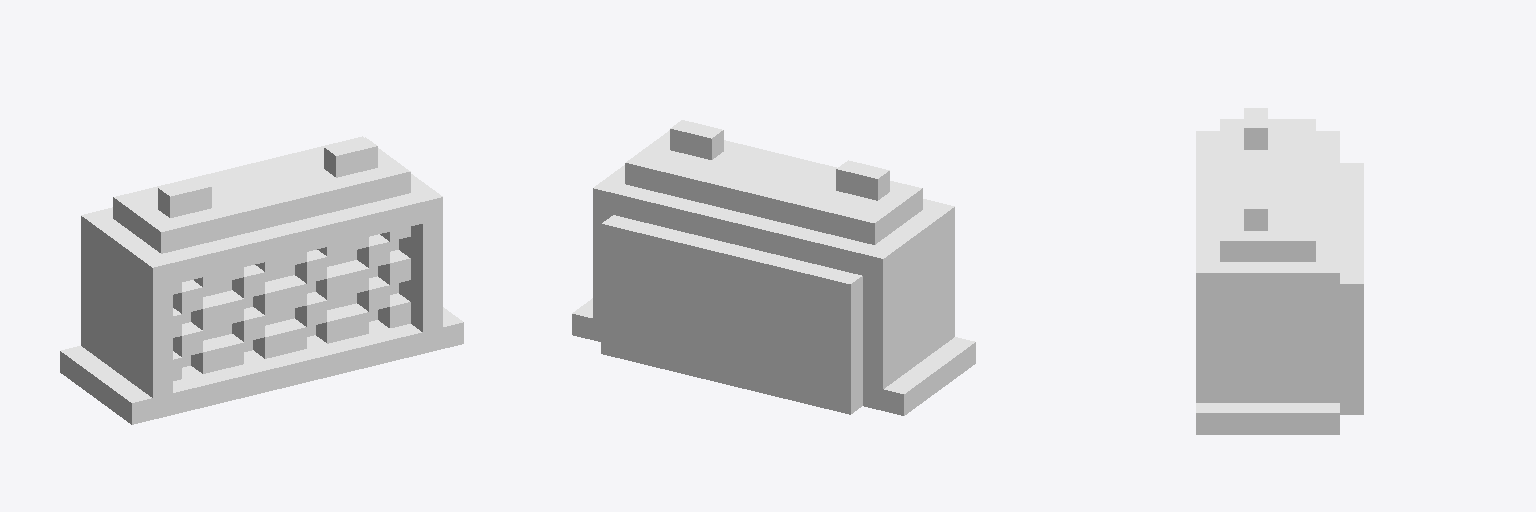
The model's file is radio.obj.
The picture shows the model from 3 angles: view 1: azimuth 30°, elevation 25°; view 2: azimuth 150°, elevation 25°; view 3: azimuth 270°, elevation 25°; orthographic projection.
Bounding box in the file's own units: 16 × 9 × 7.